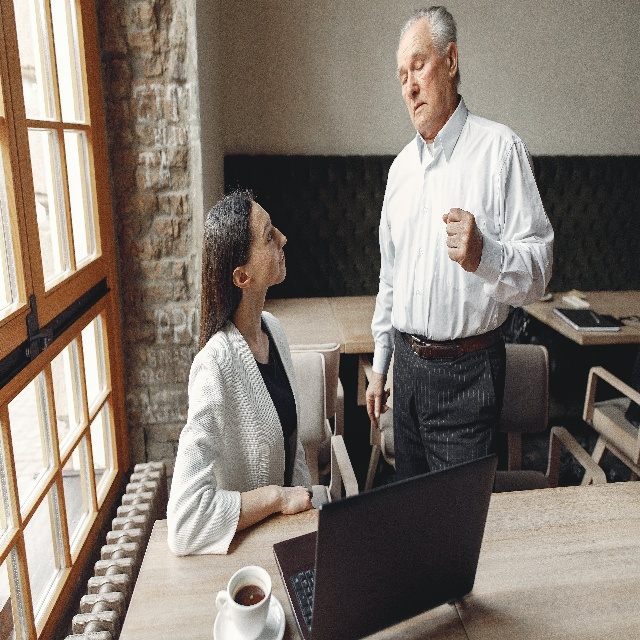Sin_guantes: (441, 206, 482, 275), (365, 370, 391, 430), (281, 482, 315, 515)
